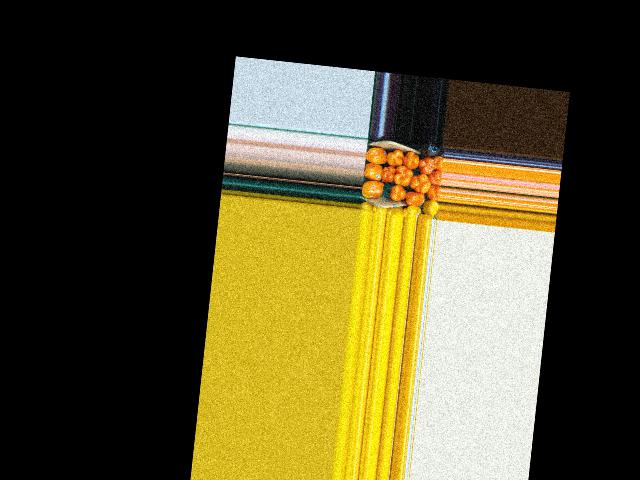bell_pepper: (399, 204, 422, 217)
